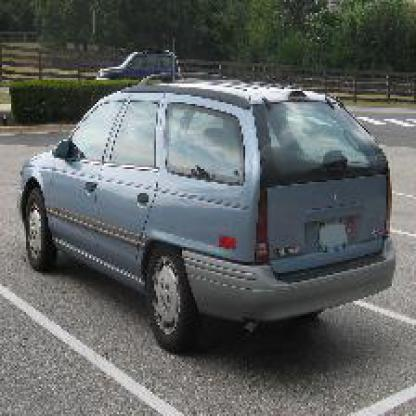not_emergency: (28, 60, 407, 346)
